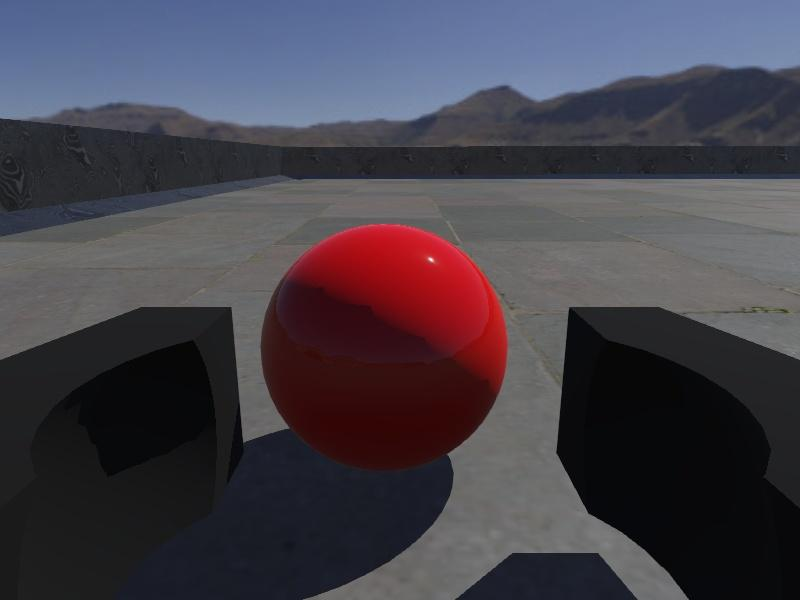red ball: (259, 222, 509, 475)
